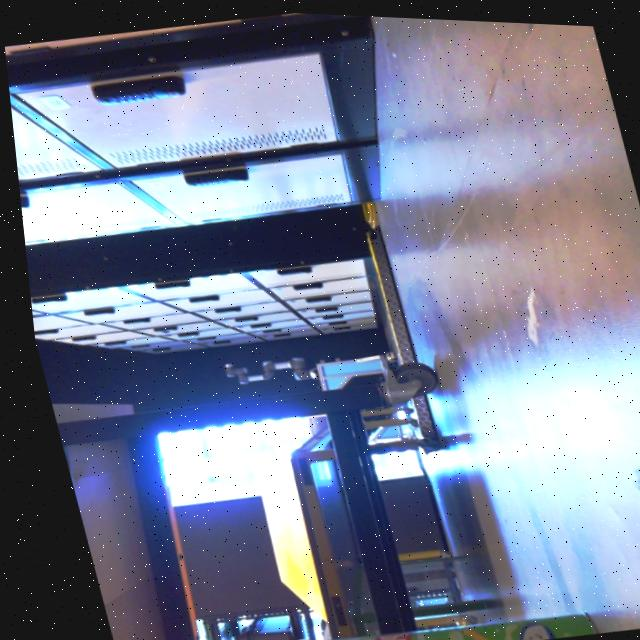greenpringles: (259, 582, 608, 640)
